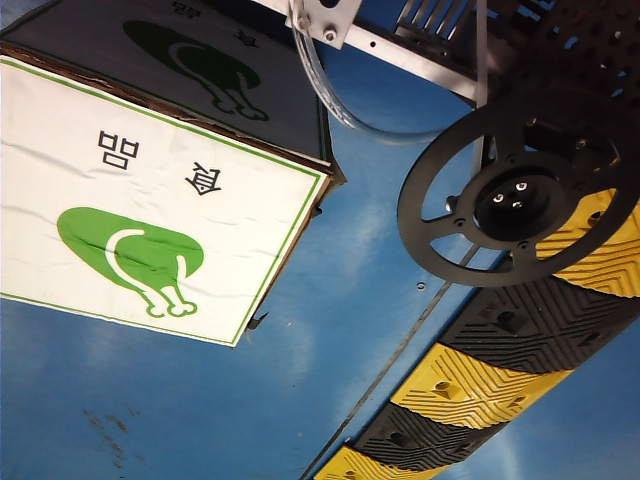Cube_food: (44, 125, 249, 321)
